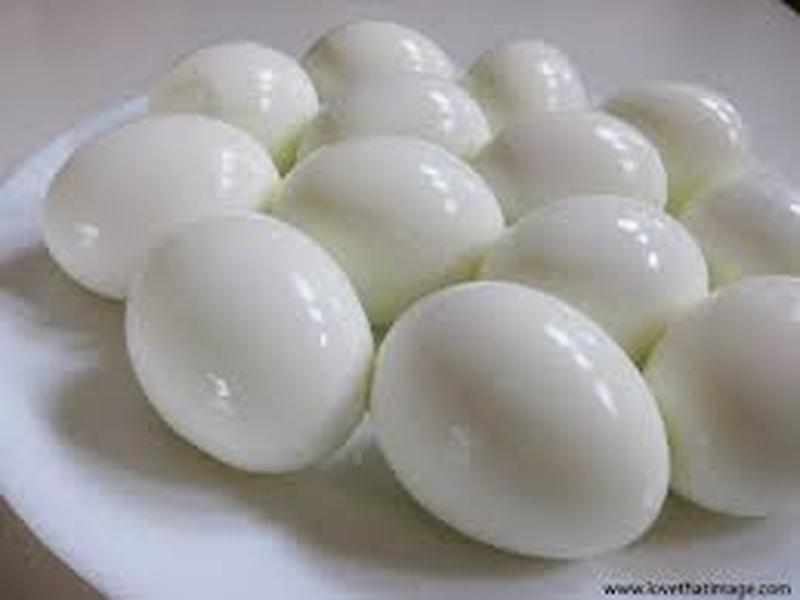egg: (55, 41, 800, 588)
